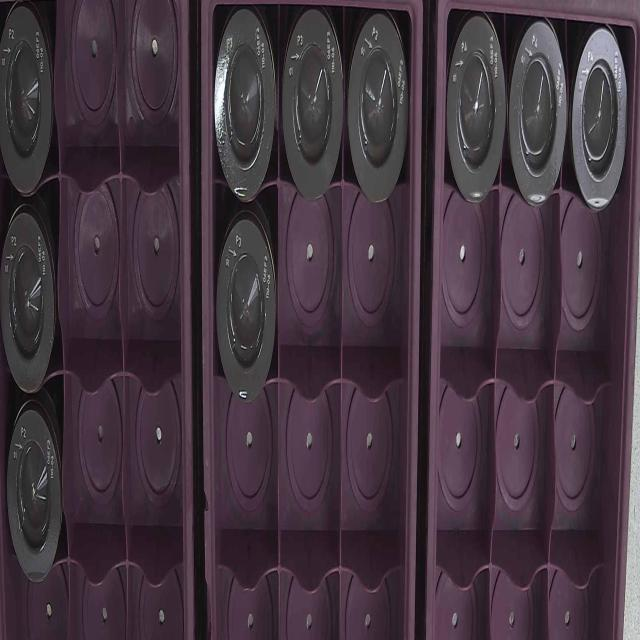P2: (5, 405, 61, 581), (0, 4, 50, 182), (2, 210, 53, 384)
P3: (215, 207, 276, 400), (282, 13, 344, 202), (214, 13, 276, 197), (352, 13, 408, 203)
P4: (511, 22, 567, 206), (573, 31, 628, 208), (450, 23, 505, 192)
